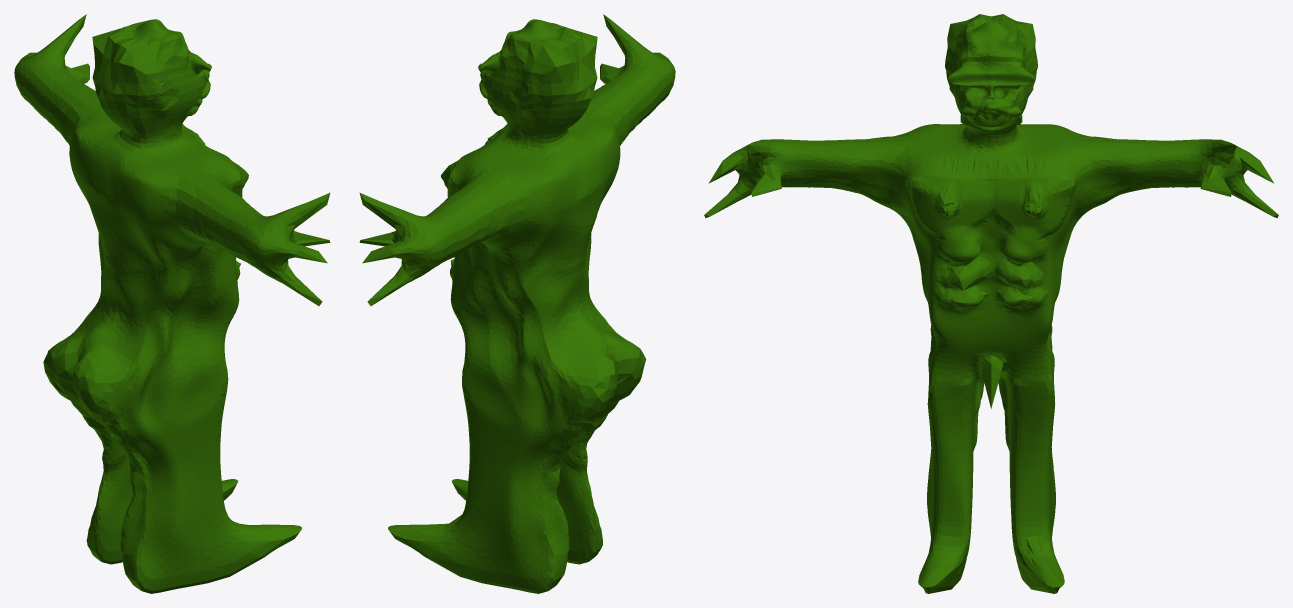
File: monster.fbx
3 renders of one model, left to right at view 1: azimuth 30°, elevation 25°; view 2: azimuth 150°, elevation 25°; view 3: azimuth 270°, elevation 25°, orthographic.
Visible parts, largest first — view 1: Cube; view 2: Cube; view 3: Cube.
Boxes of the visible parts, x1,y1,x2,y2 form: Cube: (14,14,330,593); Cube: (359,14,675,593); Cube: (704,14,1278,593).
Size of the model in its own units: 74.45 by 190 by 181.
